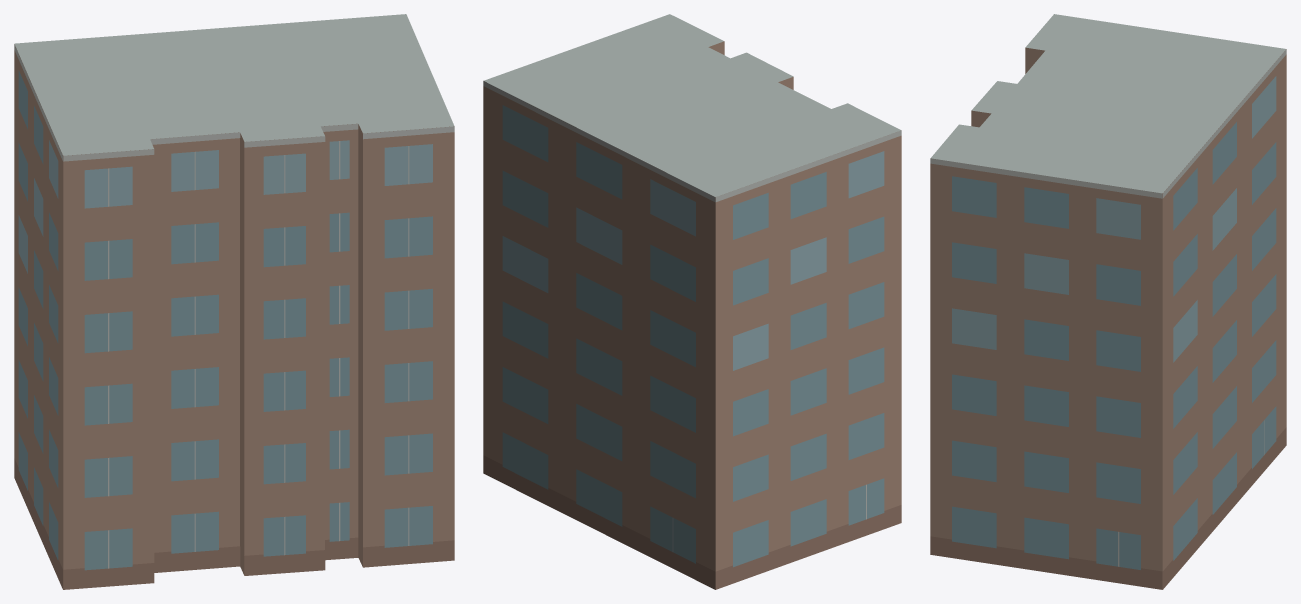
Rendered from survey-upis-33037671.glb.
3 views of the same model, side by side, from view 1: azimuth 30°, elevation 25°; view 2: azimuth 150°, elevation 25°; view 3: azimuth 270°, elevation 25° (orthographic). The views are drawn at different scales.
Parts seen in each view (by area): view 1: survey-upis-33037671.tmp; view 2: survey-upis-33037671.tmp; view 3: survey-upis-33037671.tmp.
Part boxes in pixels (x1,y1,x2,y2): survey-upis-33037671.tmp: (14,14,454,589); survey-upis-33037671.tmp: (483,14,901,589); survey-upis-33037671.tmp: (930,14,1286,589).
Bounding box in the file's own units: 17.78 × 18.3 × 14.91.
